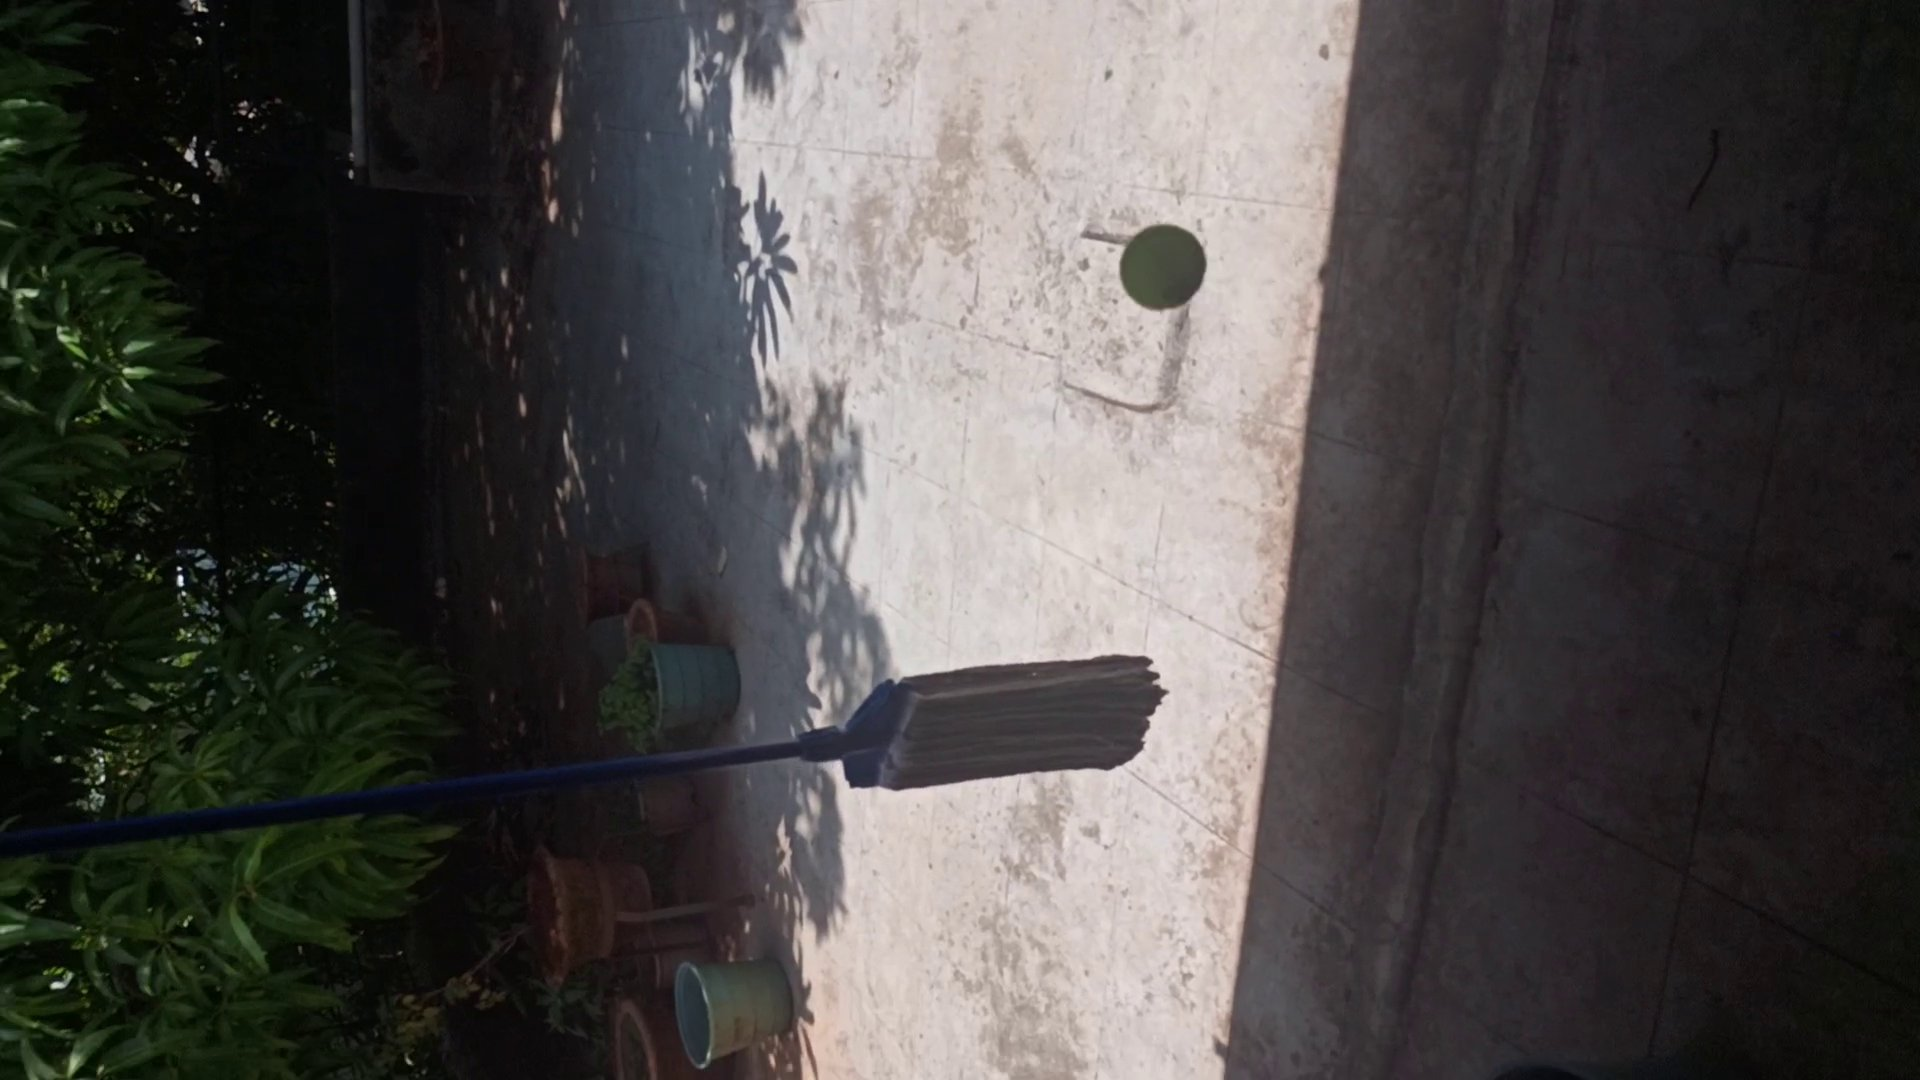Tennis-Ball: (1120, 225, 1207, 310)
